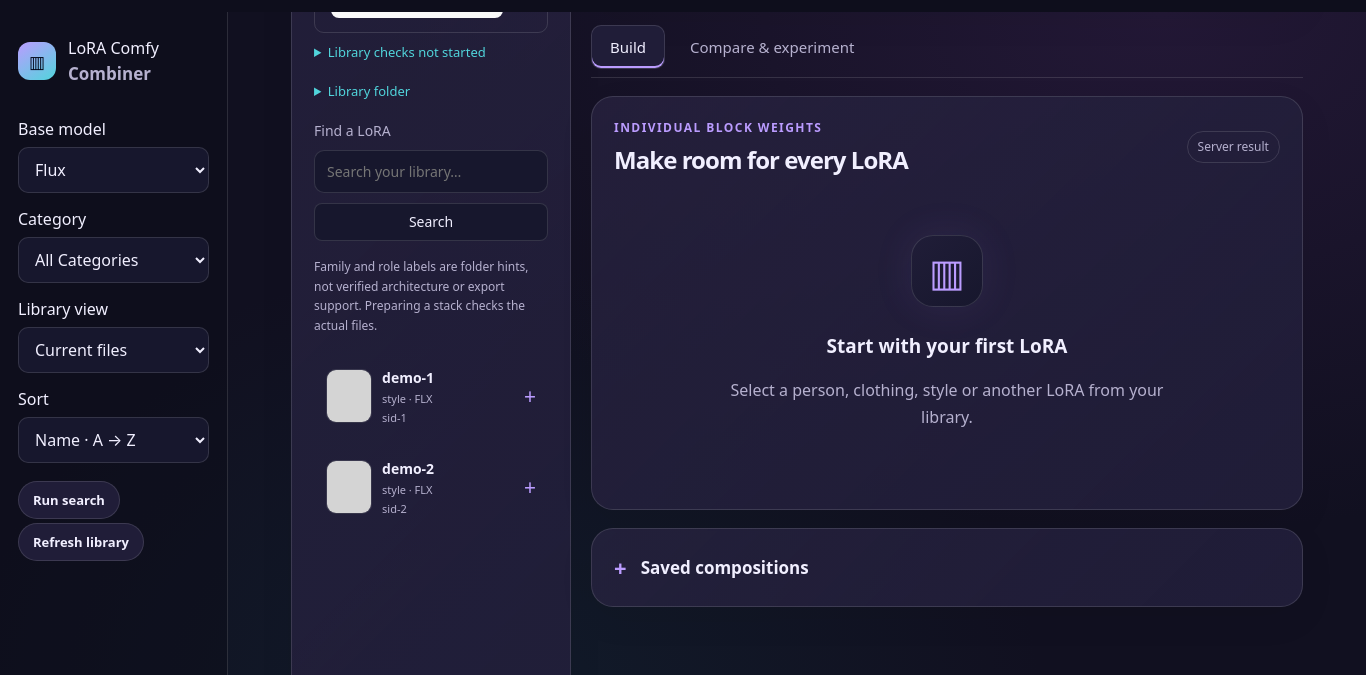
it: Studio integration › does not expose legacy or blocked CSV as copyable loader output
(page scrolled)
Click the button "demo-1 style · FLX sid-1 +".
click(431, 396)  # box top-left (317, 355), bottom-right (545, 438)
(page scrolled)
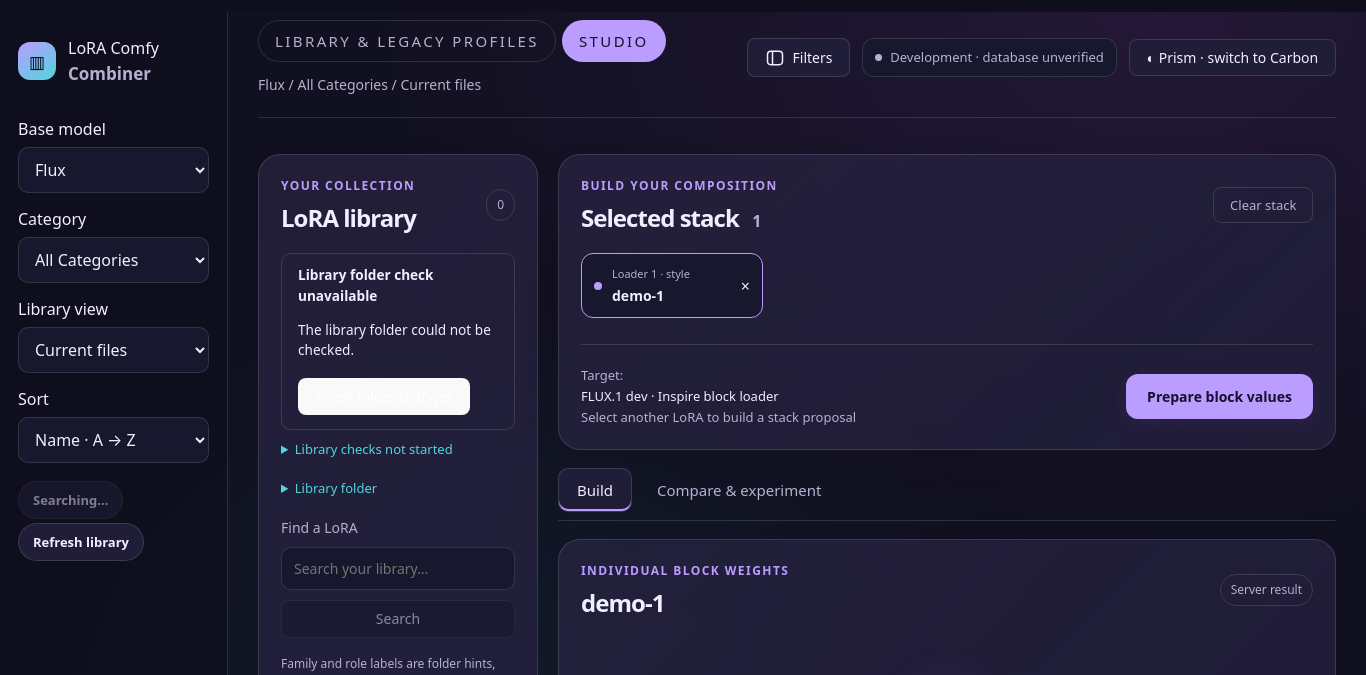
Click the button "Prepare block values".
click(1220, 396)  # box top-left (1126, 374), bottom-right (1313, 419)
(page scrolled)
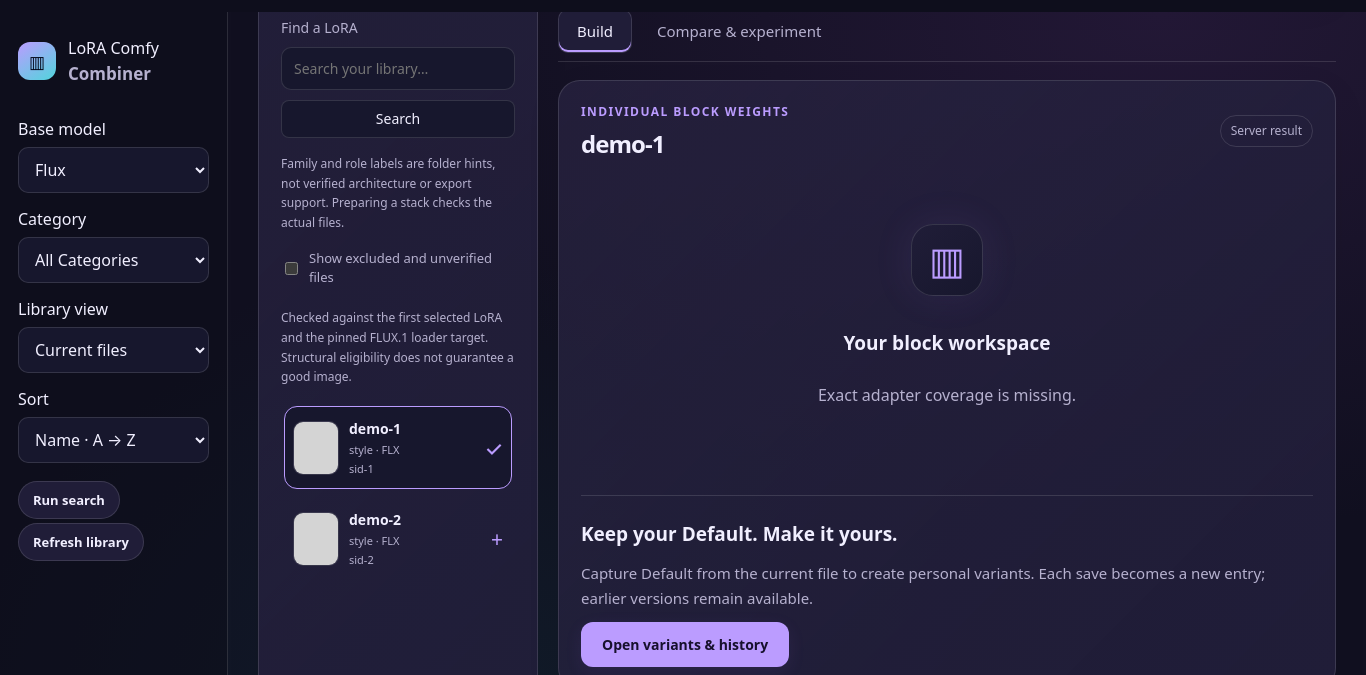
Expected: the text "Exact adapter coverage is missing." is shown, top-left (818, 382), bottom-right (1076, 409)
